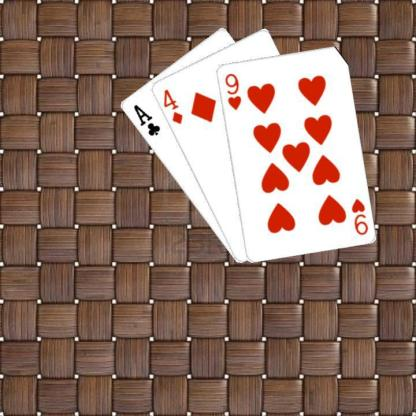4D: (160, 87, 184, 125)
9H: (349, 196, 370, 236), (222, 70, 242, 111)
AC: (131, 101, 161, 138)
